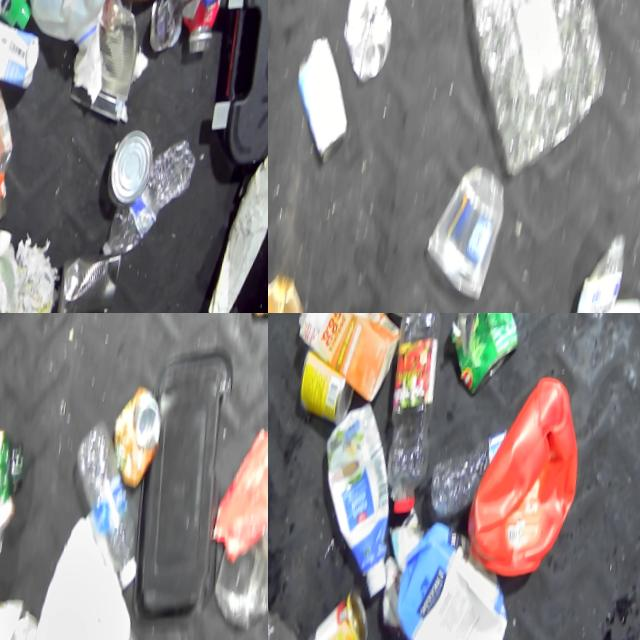can: (466, 374, 599, 589), (105, 384, 168, 490), (327, 0, 396, 83), (107, 128, 162, 215), (59, 245, 128, 313)
plastic_bottle: (429, 0, 633, 189), (60, 430, 163, 600), (106, 140, 203, 269)
